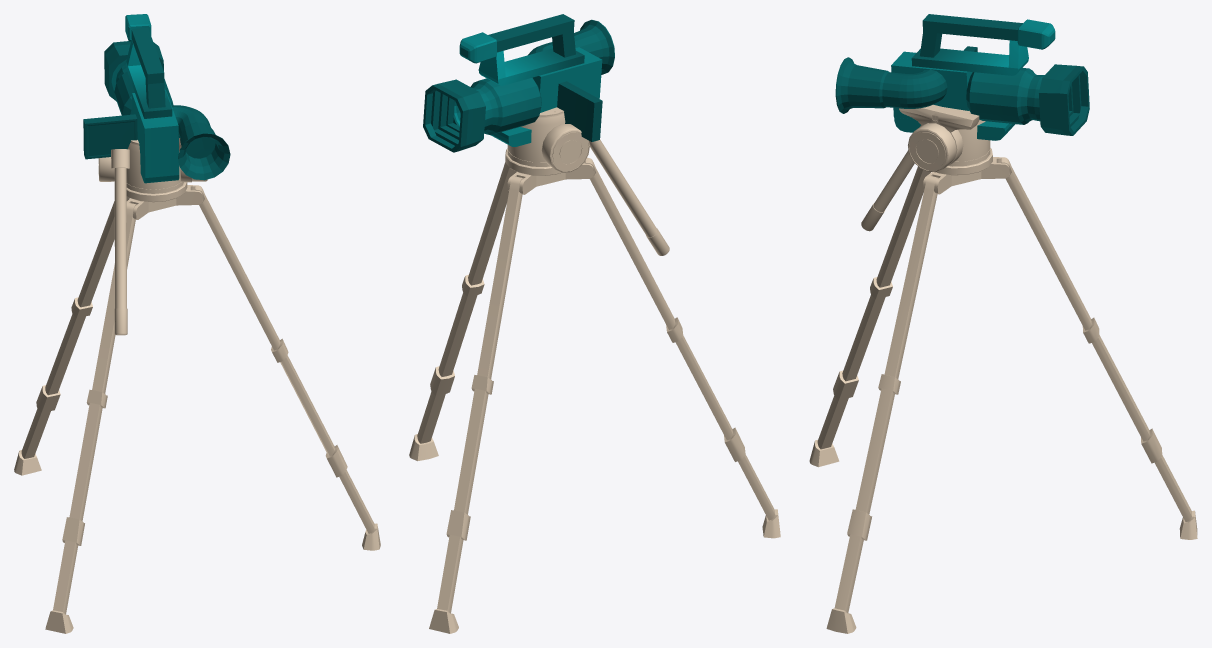
The model's file is SM_Camera_WT_01.fbx.
3 views of the same model, side by side, from view 1: azimuth 30°, elevation 25°; view 2: azimuth 150°, elevation 25°; view 3: azimuth 270°, elevation 25° (orthographic). The views are drawn at different scales.
Parts seen in each view (by area): view 1: Cylinder.001, Cube; view 2: Cylinder.001, Cube; view 3: Cylinder.001, Cube.
Part boxes in pixels (<box>): Cylinder.001: <box>14,138,380,633</box>; Cube: <box>83,14,230,183</box>; Cylinder.001: <box>409,107,780,633</box>; Cube: <box>423,14,614,152</box>; Cylinder.001: <box>809,104,1197,633</box>; Cube: <box>835,14,1089,140</box>.
Size of the model in its own units: 239 by 330 by 220.
Materials: 1 (1 with a texture image).
